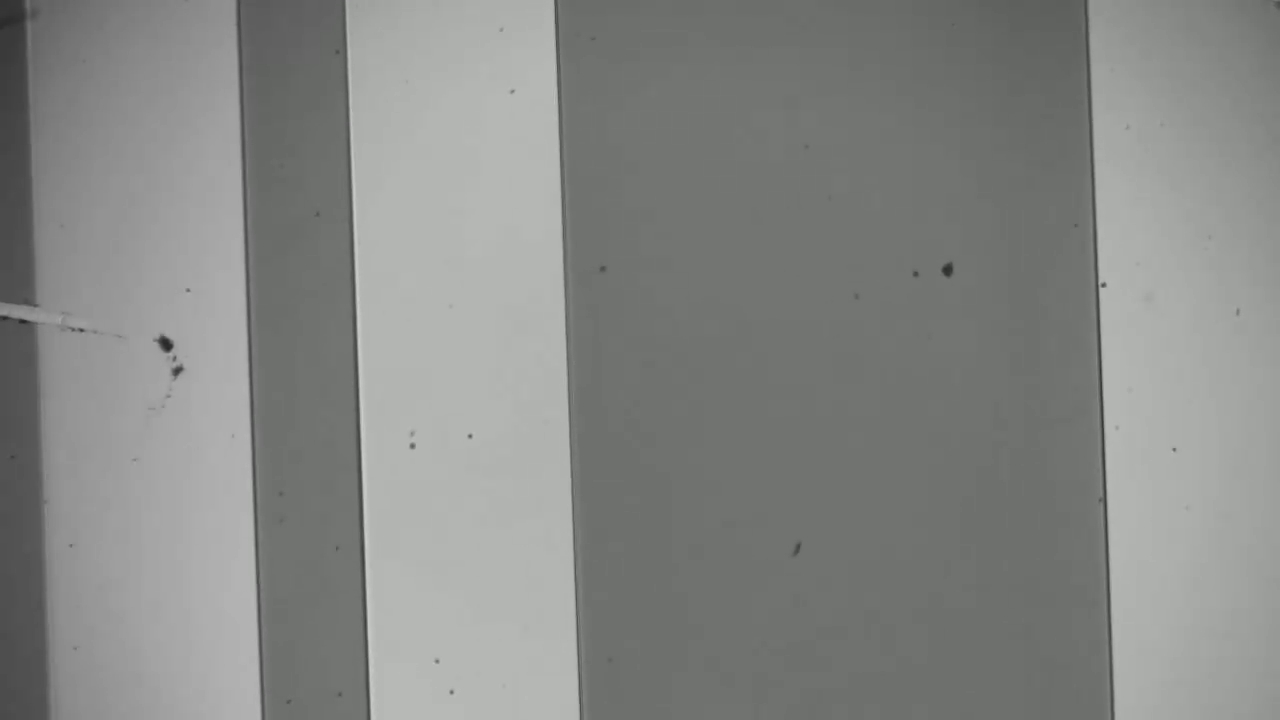Short_circuit: (1, 282, 93, 350)
